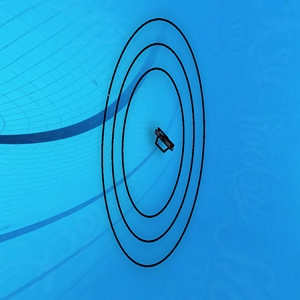cirle: (101, 17, 206, 266)
submarine: (154, 126, 174, 154)
